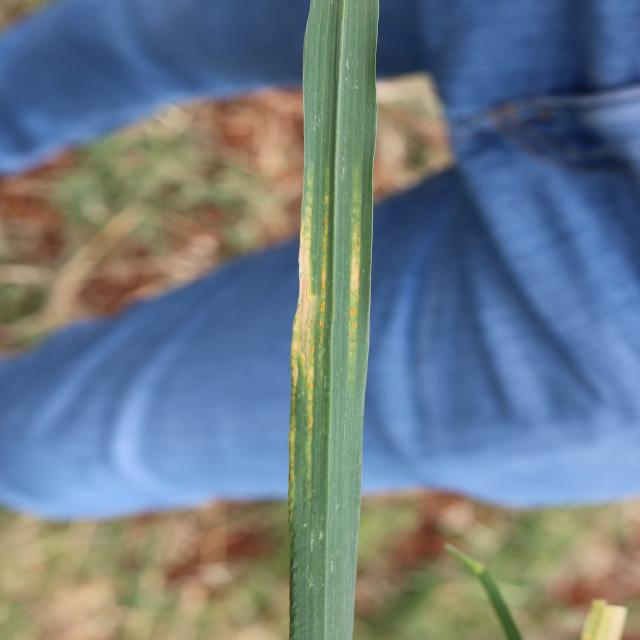Stripe Rust: (296, 202, 331, 409), (346, 194, 364, 358)
